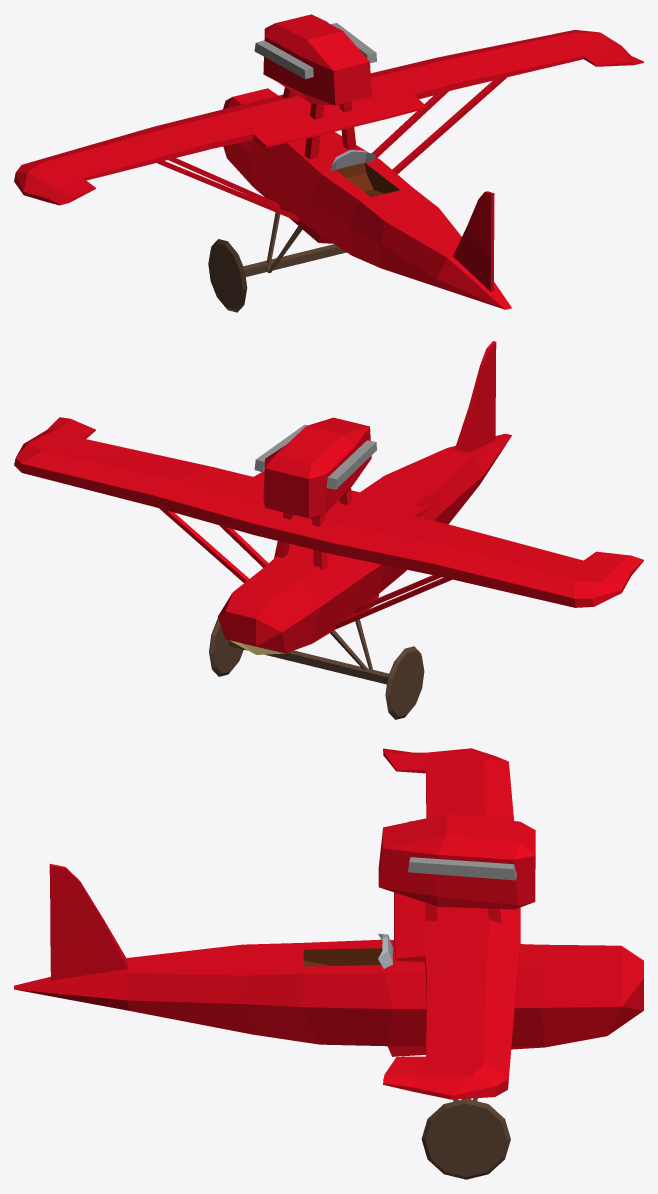
File: Mesh_AirplaneControls_plane1.fbx
The picture shows the model from 3 angles, top to bottom: view 1: azimuth 30°, elevation 25°; view 2: azimuth 150°, elevation 25°; view 3: azimuth 270°, elevation 25°; orthographic projection. The views are drawn at different scales.
Parts seen in each view (by area): view 1: Cube.001; view 2: Cube.001; view 3: Cube.001.
Boxes of the visible parts, left/top/right/bottom form: Cube.001: left=14, top=14, right=643, bottom=312; Cube.001: left=14, top=341, right=643, bottom=719; Cube.001: left=14, top=748, right=643, bottom=1179.
Bounding box in the file's own units: 1002 × 415 × 778.
